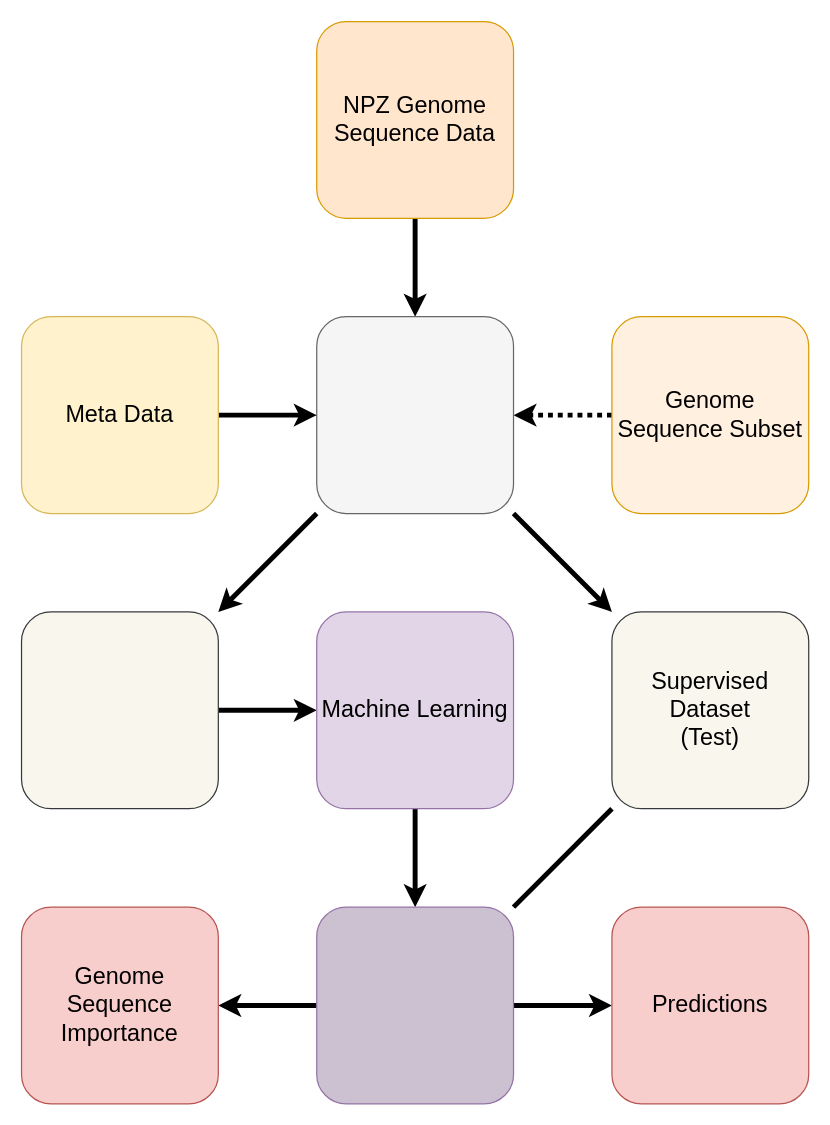
This 830x1125 diagram has some shape labels left out. The centre of each missing label's shape, as x and y in pixels:
Data Loader: the point at 414,414
Model: the point at 414,1005
Supervised Dataset (Train): the point at 119,710
